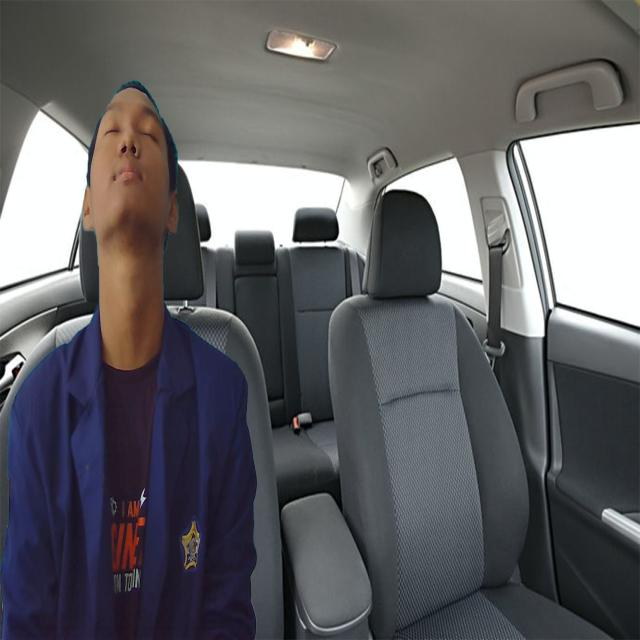no-seatbelt: (92, 79, 172, 252)
